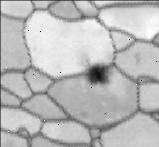good_void: (81, 63, 113, 90)
